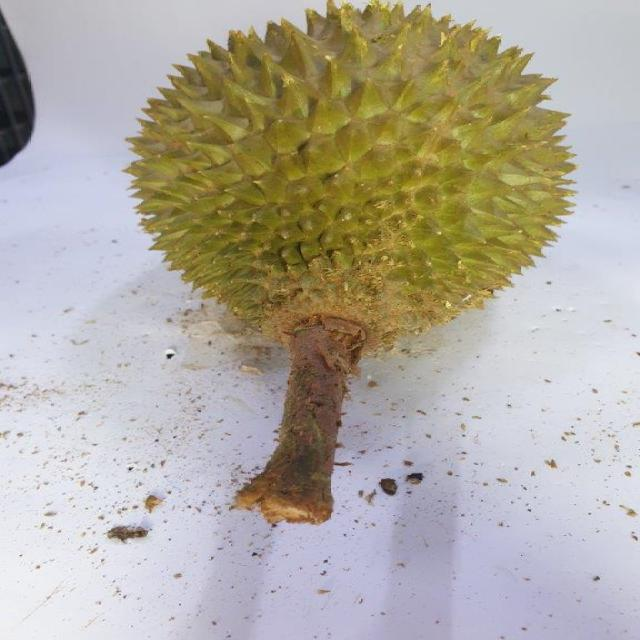immature: (126, 0, 586, 348)
